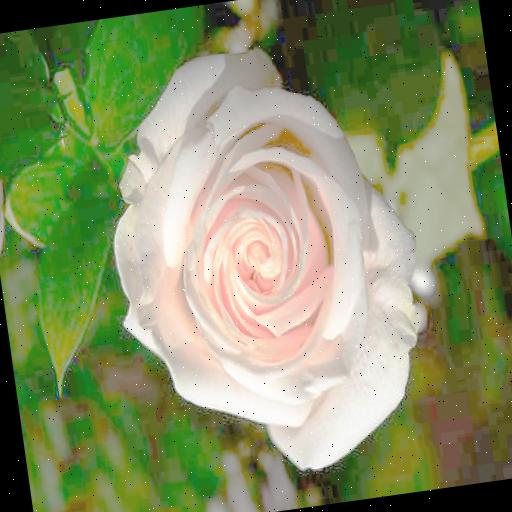rose: (85, 30, 448, 491)
